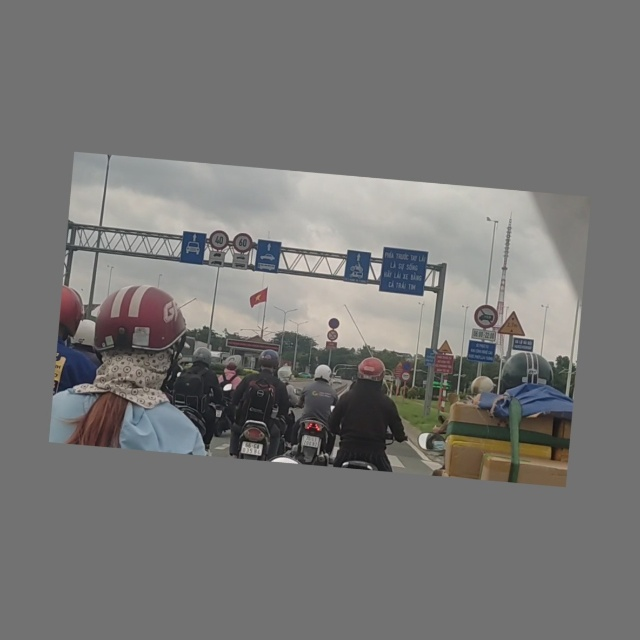Camera: (420, 346, 440, 369)
P.106a*Xe tai: (469, 300, 504, 334)
P.111: (325, 329, 340, 344)
P.127*40: (205, 227, 233, 254)
P.127*60: (229, 230, 257, 258)
P.129: (399, 371, 412, 384)
P.130: (326, 316, 342, 332)
P.131a: (400, 361, 414, 374)
W.221b: (435, 337, 456, 358)
W.239b*: (494, 305, 532, 342)
